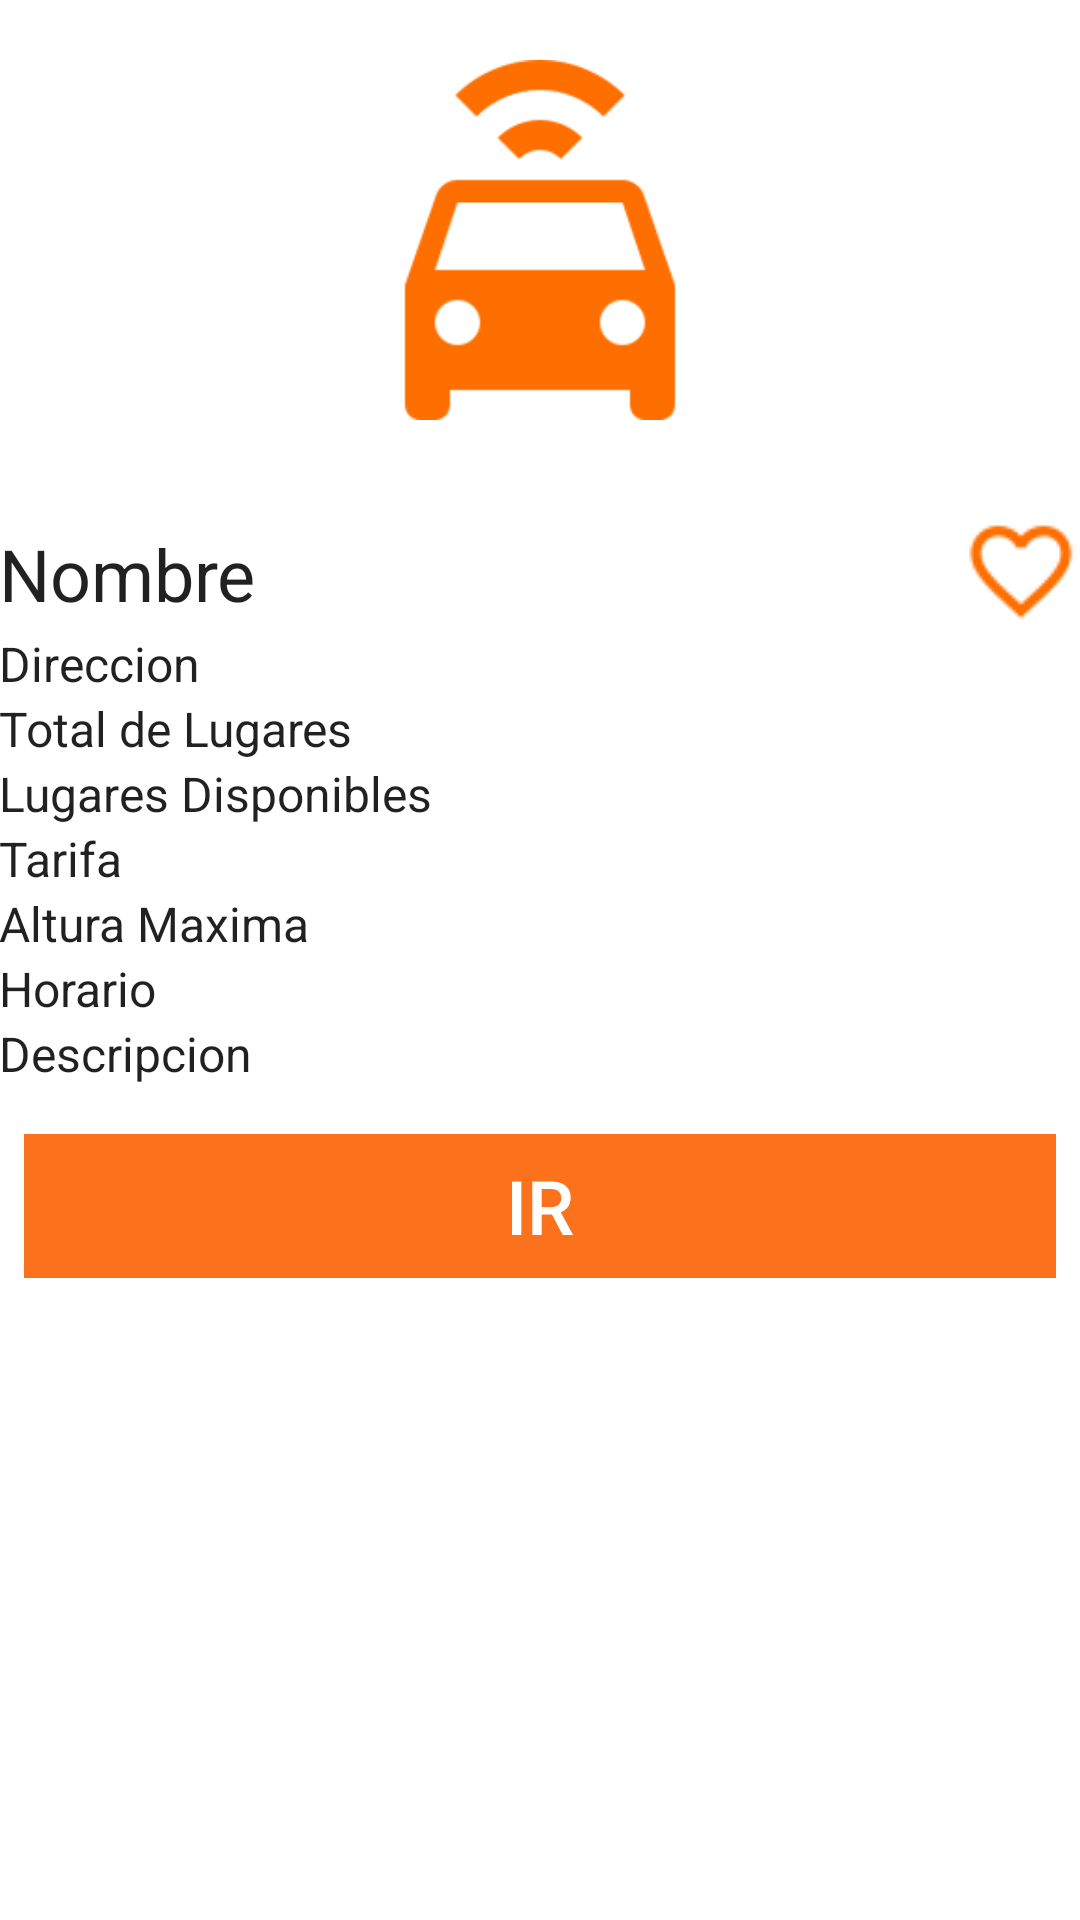

Where icons sit on this 1080*1920 app screen, as [left=x1, top=y1, right=x2, bottom=y2]:
no fav dos: [left=969, top=525, right=1073, bottom=619]
